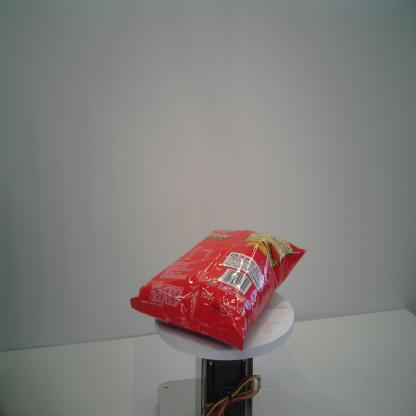Puffed Food: (126, 227, 308, 351)
